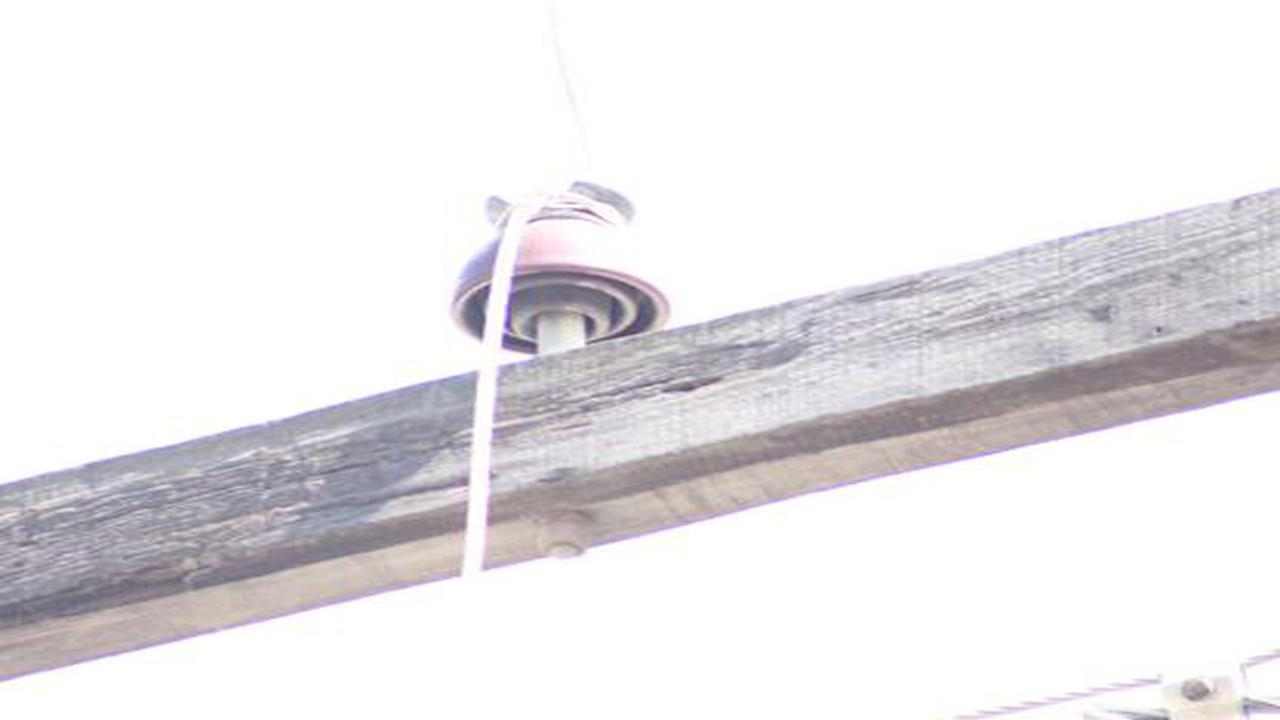insulator_pin: (447, 171, 675, 352)
